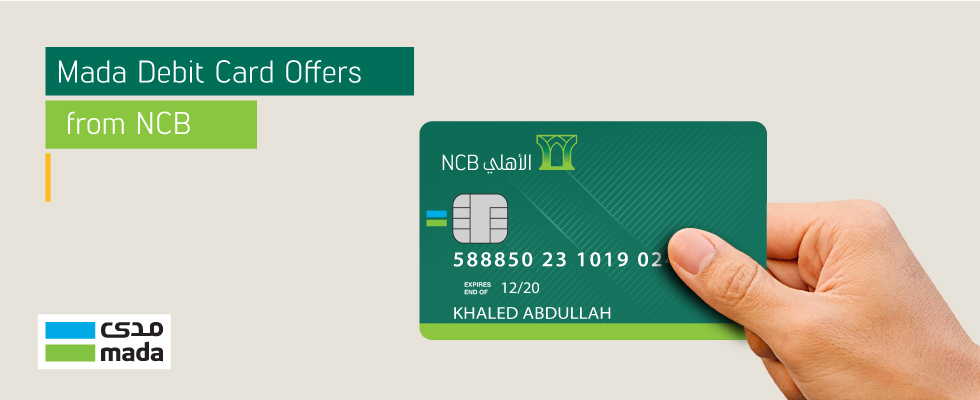tarjeta: (417, 120, 769, 343)
